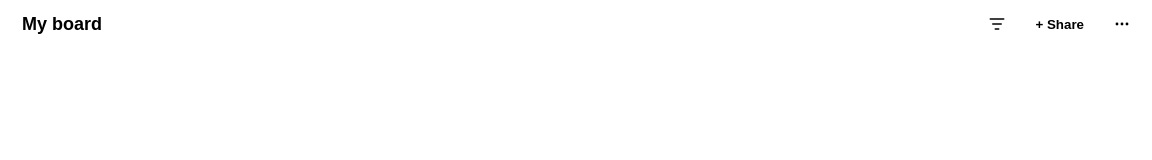
Test: components/BoardTopBar › clicking inside the menu wrapper does not close the menu
The width and height of the screenshot is (1152, 160).
Click the button named "board menu": {"x": 1122, "y": 24} [1106, 8, 1138, 40]
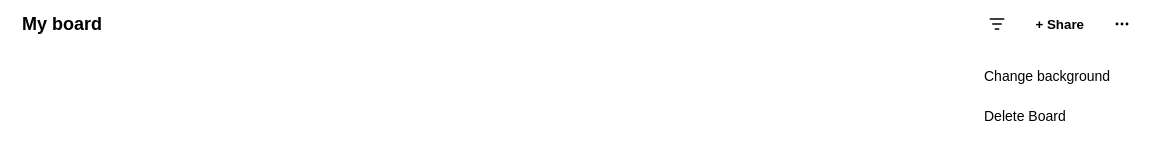
Expected: the element showing "My board + Share Change background Delete Board" is shown, [0, 0, 1151, 48]
Now the button "Delete Board" is shown, box [972, 98, 1132, 134]
